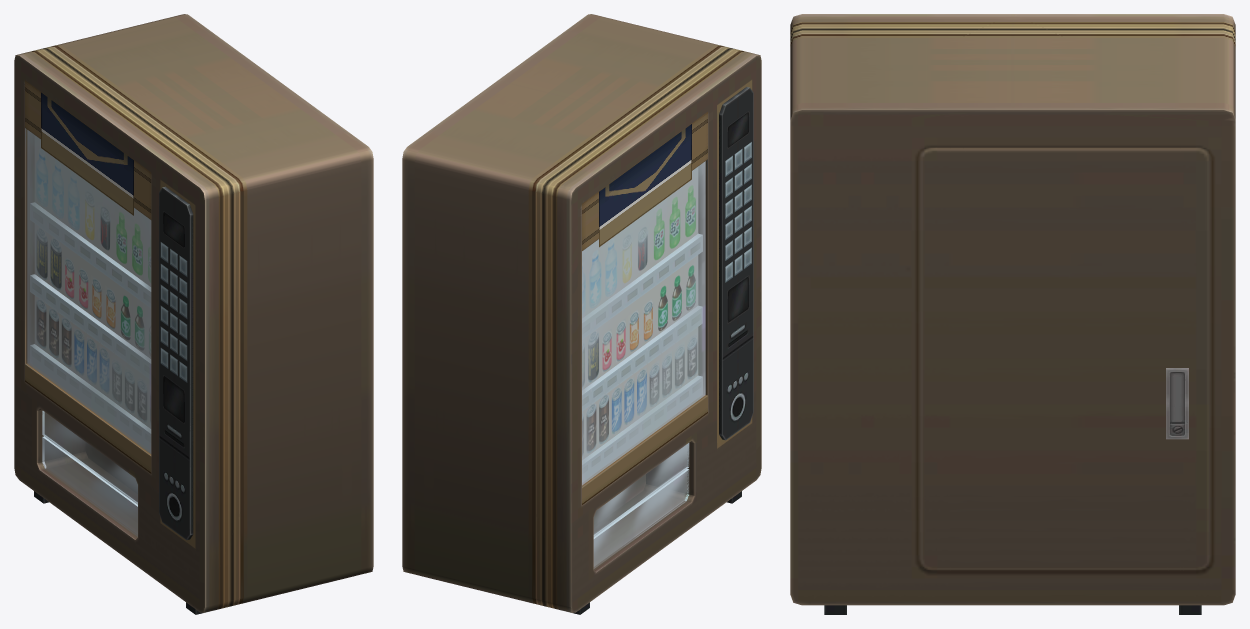
Rendered from my_highlander_01_vendingmachine_01.glb.
The picture shows the model from 3 angles, left to right: view 1: azimuth 30°, elevation 25°; view 2: azimuth 150°, elevation 25°; view 3: azimuth 270°, elevation 25°; orthographic projection. The views are drawn at different scales.
Parts seen in each view (by area): view 1: my_highlander_01_vendingmachine_01; view 2: my_highlander_01_vendingmachine_01; view 3: my_highlander_01_vendingmachine_01.
Boxes of the visible parts, x1=… form: my_highlander_01_vendingmachine_01: x1=14, y1=14, x2=373, y2=614; my_highlander_01_vendingmachine_01: x1=402, y1=14, x2=761, y2=614; my_highlander_01_vendingmachine_01: x1=790, y1=14, x2=1235, y2=614.
Size of the model in its own units: 0.00567 by 0.0134 by 0.0107.
2 materials, 2 textured.
